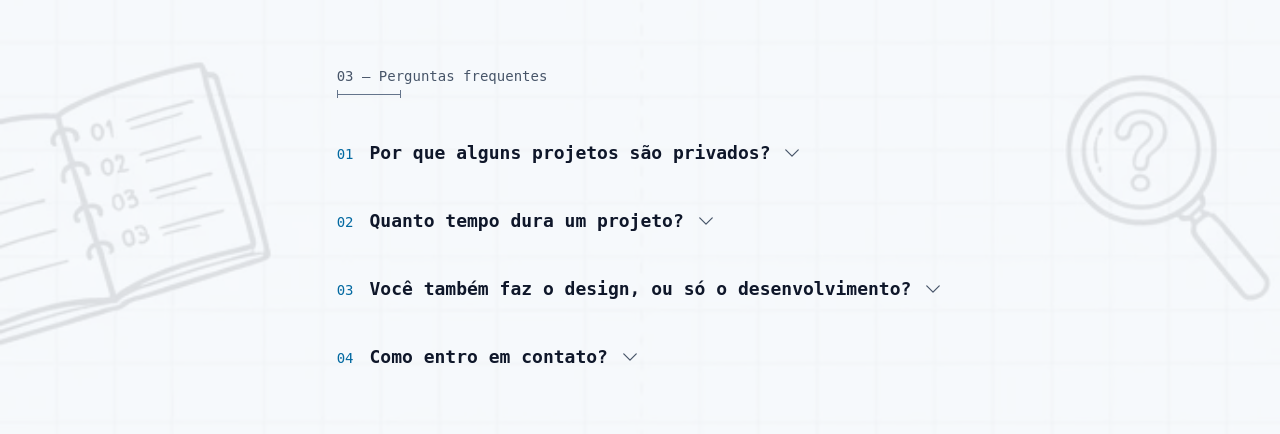
Scenario: <Faq /> › clicar numa pergunta revela a resposta (details nativo)
Click the text "Quanto tempo dura um projeto?". click: (527, 220)
box: [370, 206, 684, 234]
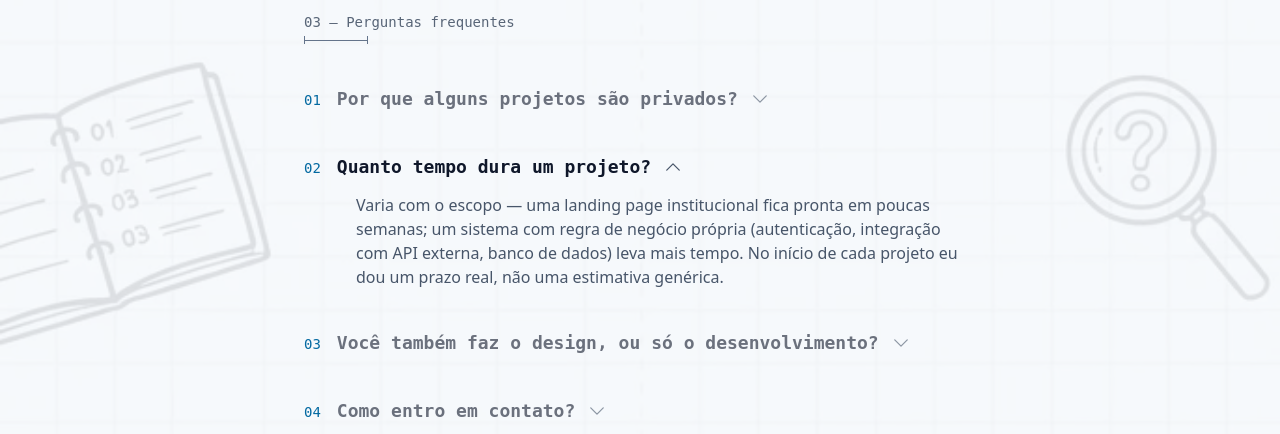
Now the text "poucas semanas" is shown, box [356, 194, 958, 288]
